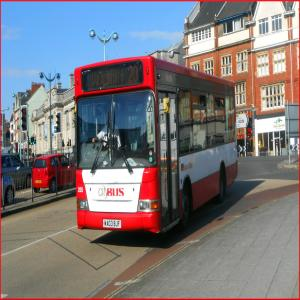Vehicle-registration-plate: (105, 219, 123, 229)
